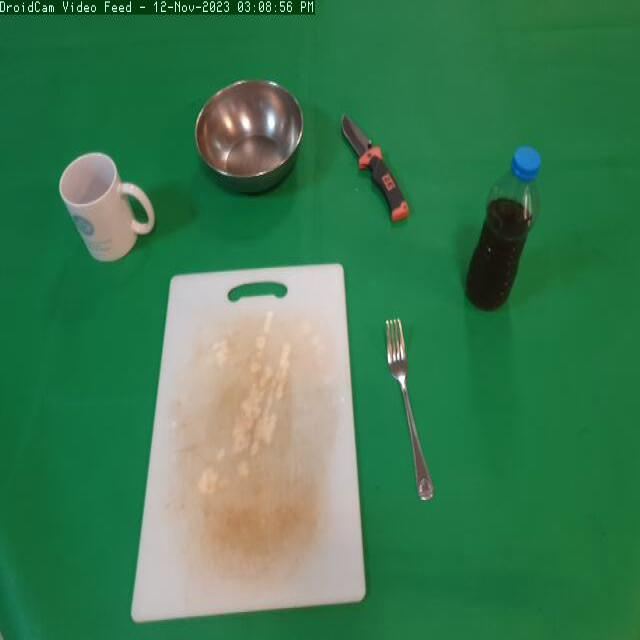bowl: (192, 76, 306, 206)
cup: (52, 142, 160, 288)
cutting board: (124, 244, 374, 636)
fork: (379, 305, 441, 515)
fullbottle: (462, 140, 544, 322)
knife: (336, 106, 411, 232)
